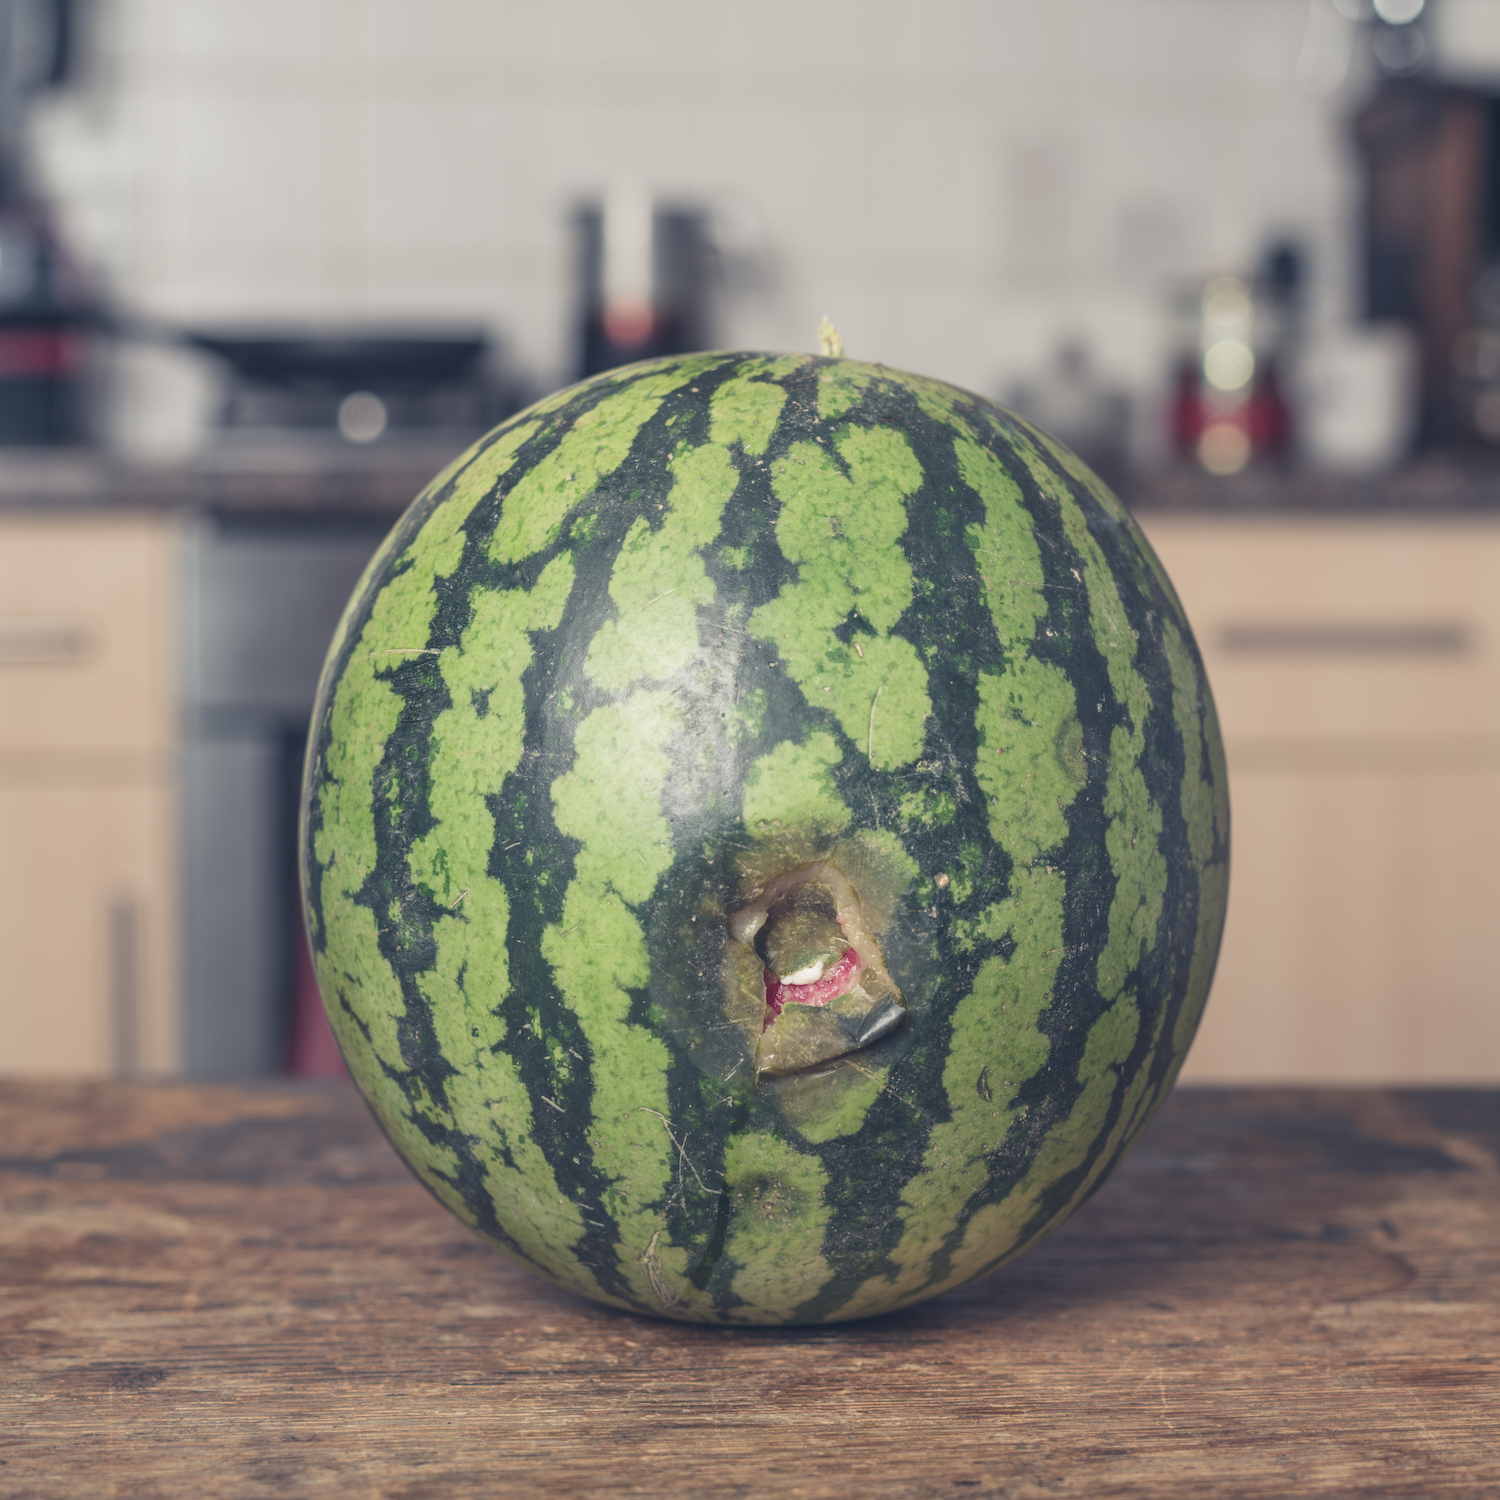rotten: (628, 834, 944, 1113)
watermelon: (293, 349, 1236, 1341)
